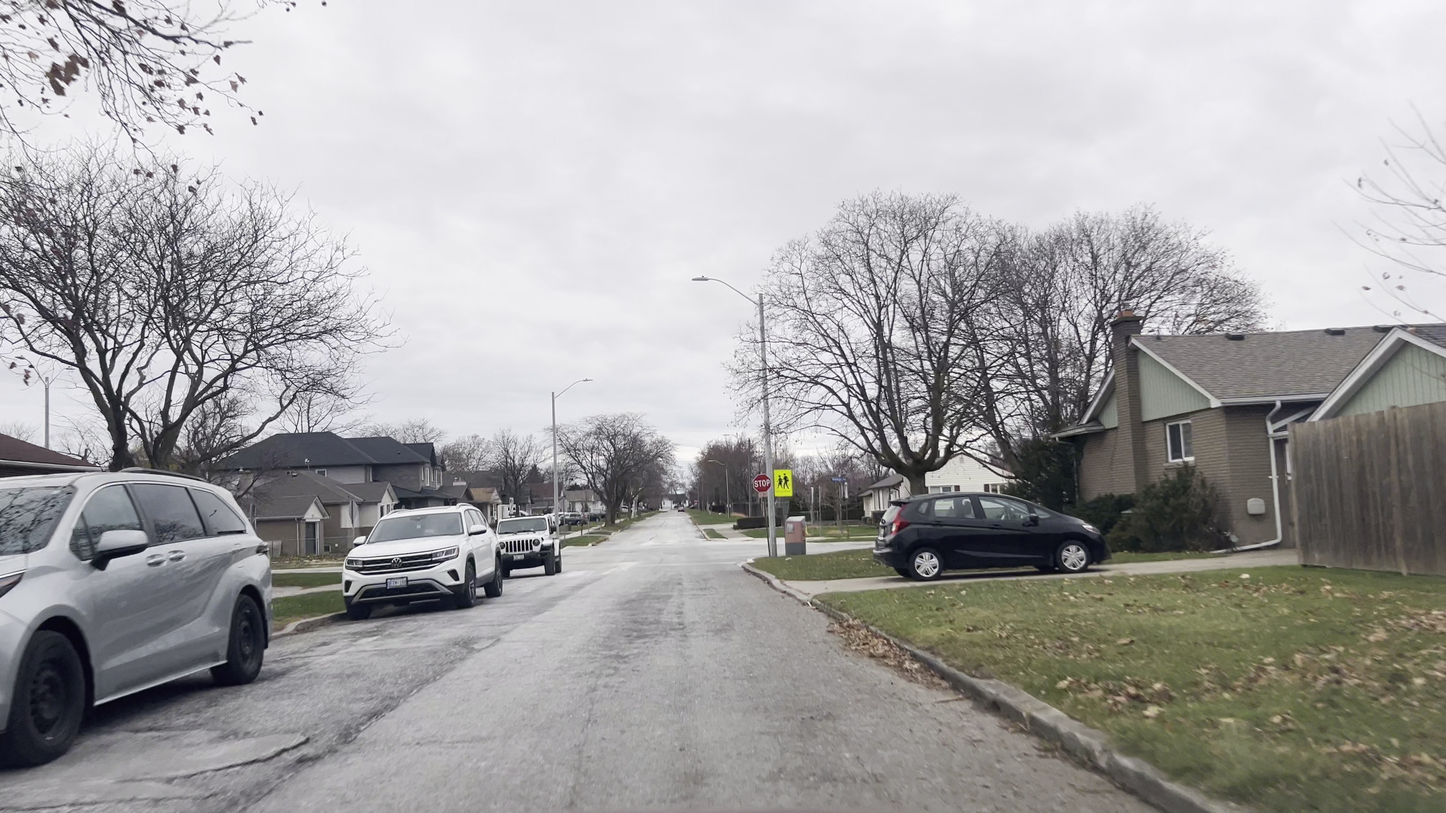cracks: (162, 714, 323, 794), (18, 778, 215, 813), (330, 695, 408, 755), (453, 630, 510, 666)
